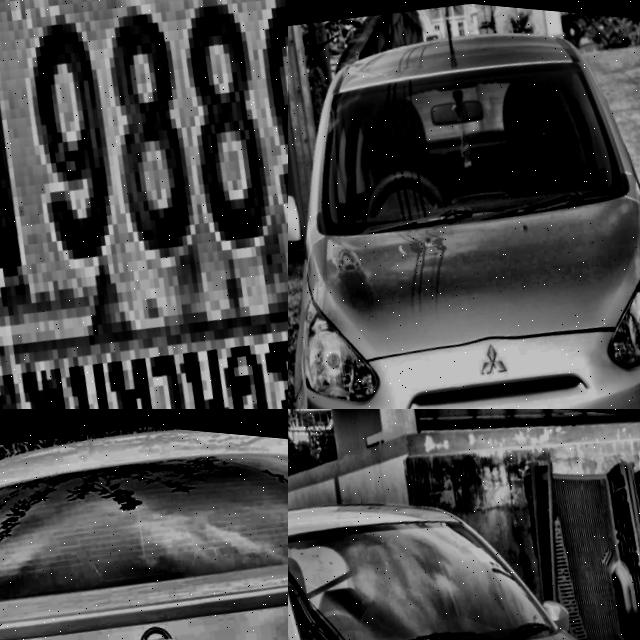license-plate: (0, 0, 288, 409)
